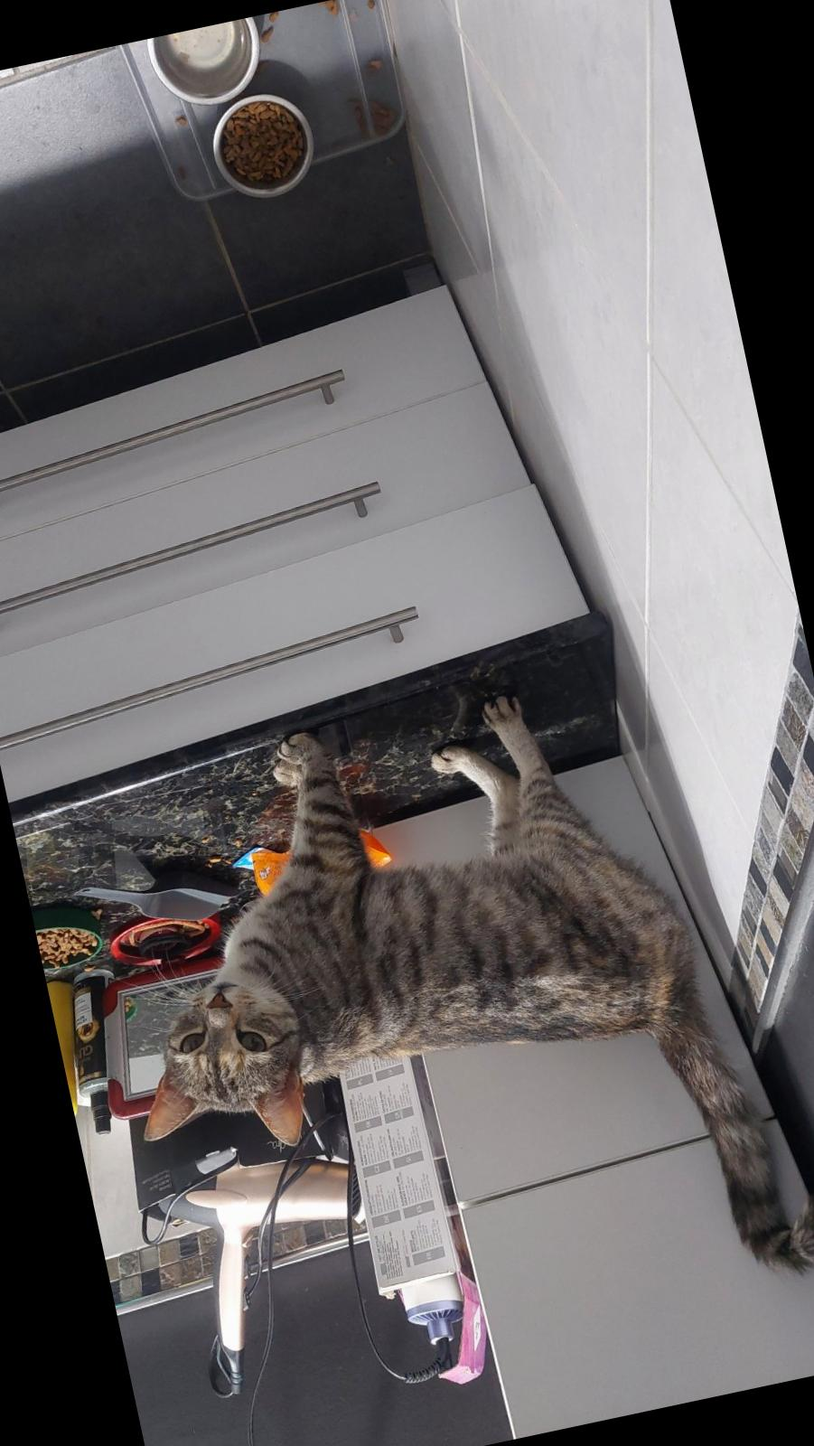macka: (65, 647, 814, 1398)
